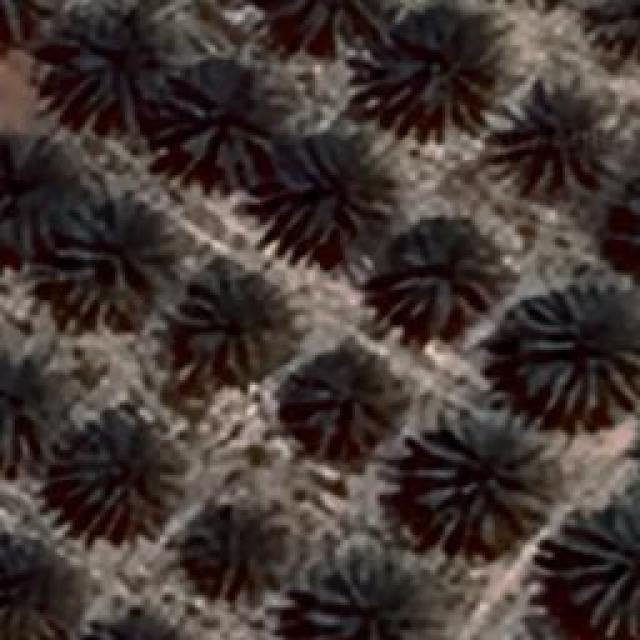PalmTree: (29, 21, 612, 68), (410, 408, 555, 550), (512, 285, 638, 425), (52, 8, 186, 128), (350, 20, 495, 130), (156, 58, 274, 190), (49, 200, 172, 325), (381, 220, 506, 330), (260, 142, 395, 240), (505, 88, 630, 190), (172, 270, 290, 375), (60, 422, 185, 518), (552, 504, 638, 638), (290, 348, 402, 450), (302, 555, 426, 640), (0, 537, 95, 640), (186, 498, 276, 594), (241, 0, 403, 52), (0, 350, 60, 475), (0, 151, 78, 239), (80, 611, 186, 640), (617, 168, 640, 284), (622, 164, 640, 284), (80, 620, 186, 640)
